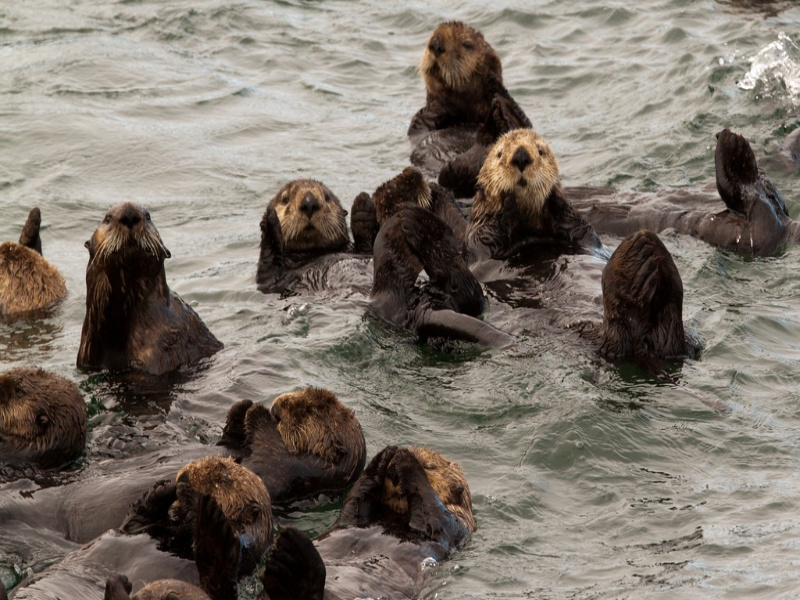minkish: (75, 205, 229, 385), (344, 444, 488, 558), (136, 455, 282, 562), (254, 183, 378, 306), (253, 379, 365, 491), (401, 16, 526, 116), (467, 126, 584, 232), (1, 362, 98, 463)
